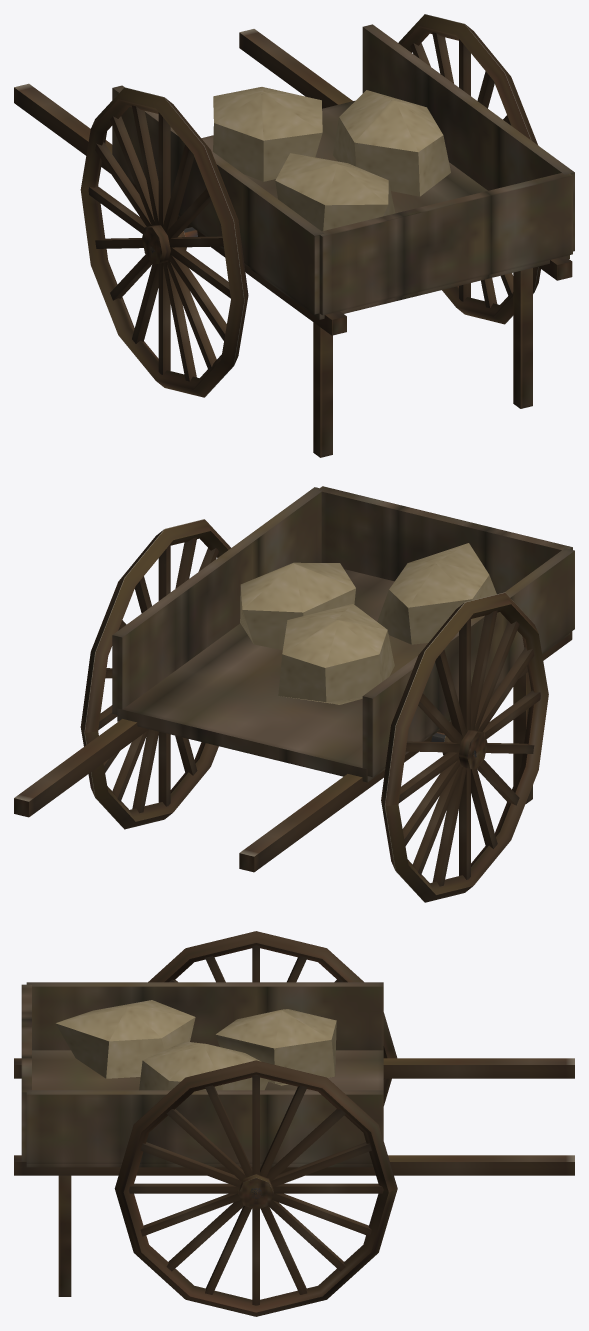
Rendered from handcart.obj.
3 renders of one model, top to bottom at view 1: azimuth 30°, elevation 25°; view 2: azimuth 150°, elevation 25°; view 3: azimuth 270°, elevation 25°, orthographic. The views are drawn at different scales.
Visible parts, largest first — view 1: handcart; view 2: handcart; view 3: handcart.
Boxes of the visible parts, x1,y1,x2,y2 form: handcart: (14,14,574,457); handcart: (14,486,574,902); handcart: (14,931,574,1316).
Size of the model in its own units: 1.3 by 1.11 by 2.2.
Materials: 1 (1 with a texture image).
